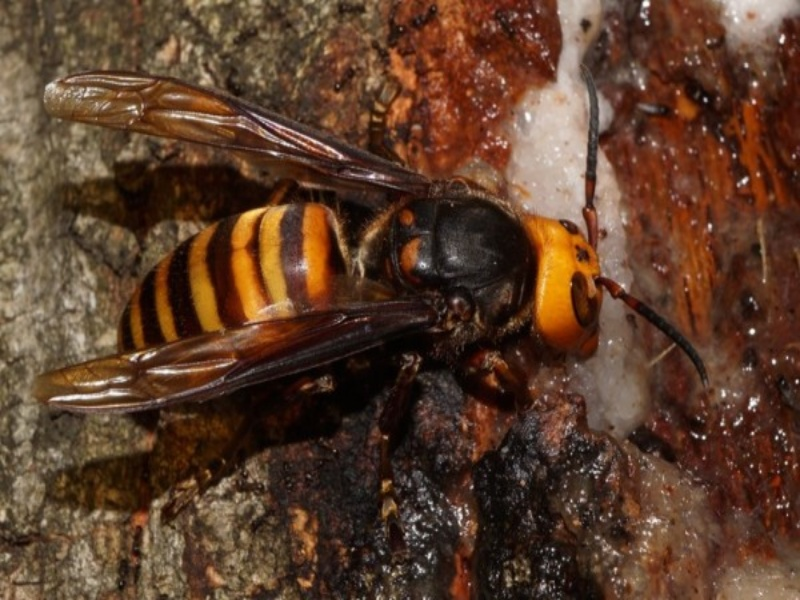asian_giant_hornet: (43, 69, 639, 426)
